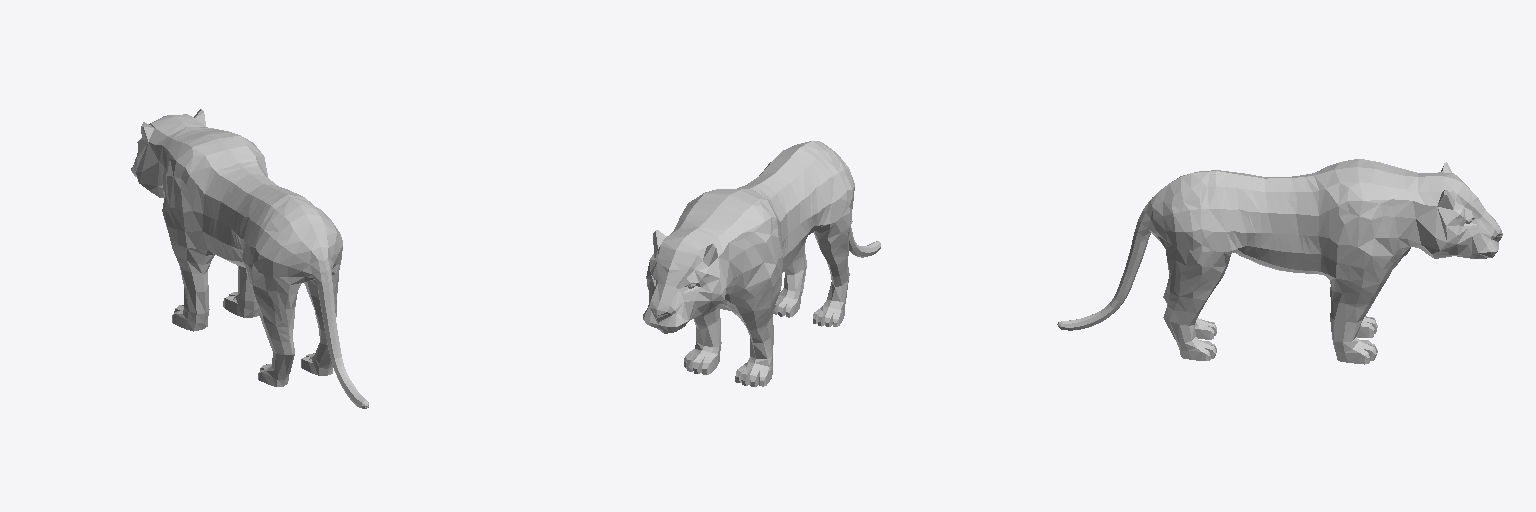
The model's file is tiger_001.obj.
3 views of the same model, side by side, from view 1: azimuth 30°, elevation 25°; view 2: azimuth 150°, elevation 25°; view 3: azimuth 270°, elevation 25° (orthographic).
Parts seen in each view (by area): view 1: tiger_001; view 2: tiger_001; view 3: tiger_001.
Boxes of the visible parts, x1=… form: tiger_001: x1=131, y1=109, x2=368, y2=408; tiger_001: x1=643, y1=141, x2=880, y2=386; tiger_001: x1=1057, y1=159, x2=1502, y2=364.
Bounding box in the file's own units: 0.7287 × 1.28 × 2.91.